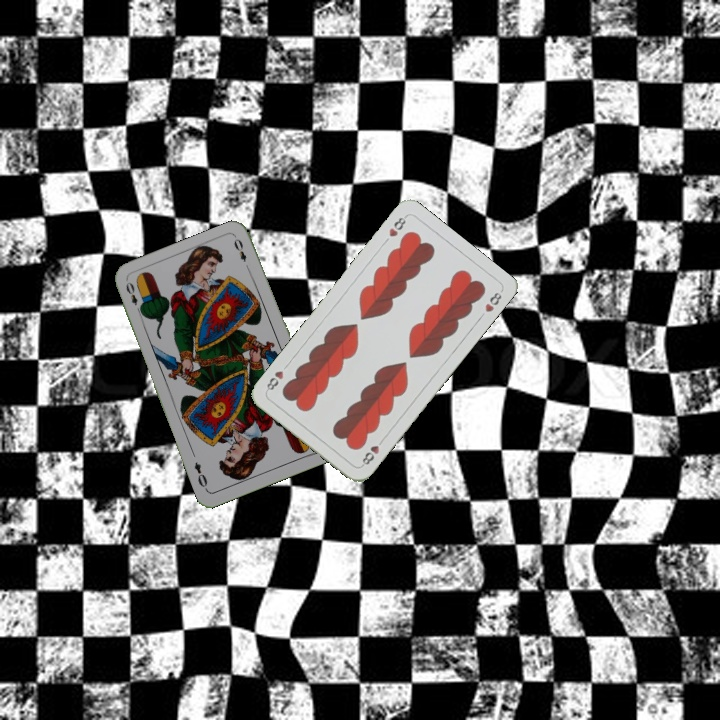EO: (122, 278, 145, 317)
H8: (357, 434, 387, 469), (385, 211, 409, 239)
